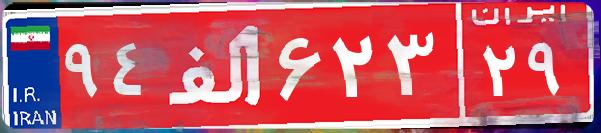2: (330, 28, 385, 110), (475, 38, 525, 113)
3: (385, 28, 445, 110)
4: (110, 28, 158, 105)
6: (273, 28, 330, 110)
9: (57, 26, 110, 107), (525, 38, 570, 115)
الف: (158, 15, 273, 115)
